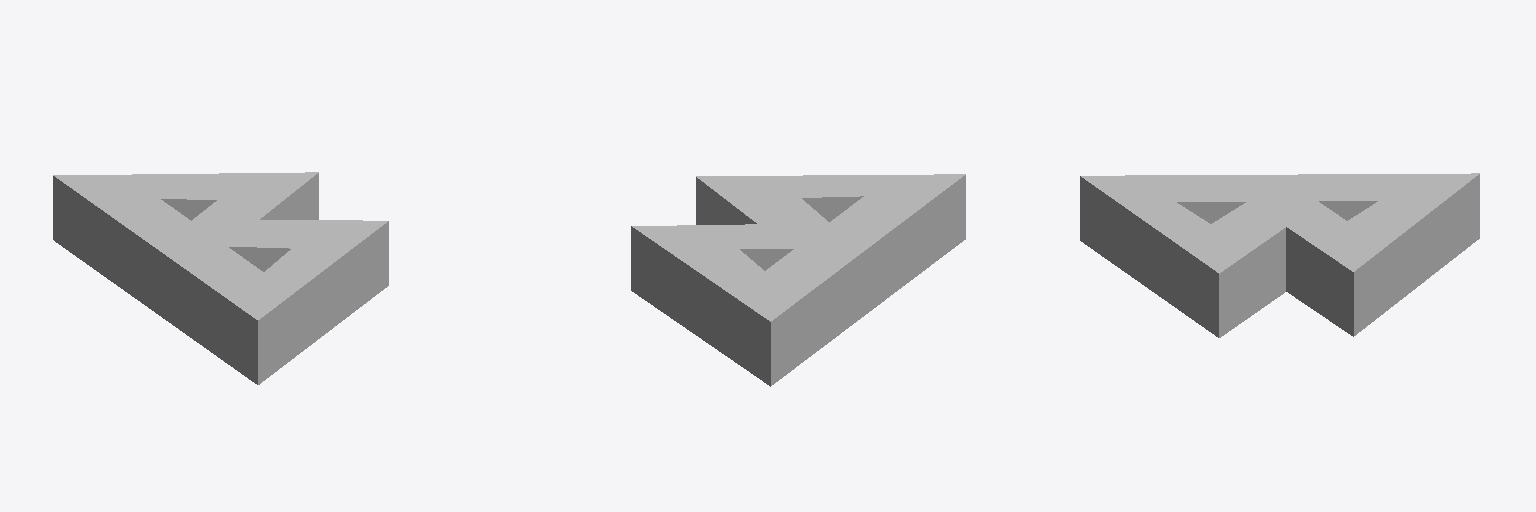
The model's file is Berkana.obj.
The picture shows the model from 3 angles: view 1: azimuth 30°, elevation 25°; view 2: azimuth 150°, elevation 25°; view 3: azimuth 270°, elevation 25°; orthographic projection.
Visible parts, largest first — view 1: Berkana; view 2: Berkana; view 3: Berkana.
Boxes of the visible parts, x1=… form: Berkana: x1=53, y1=172, x2=388, y2=384; Berkana: x1=631, y1=174, x2=965, y2=386; Berkana: x1=1080, y1=173, x2=1479, y2=337.
Size of the model in its own units: 0.3414 by 0.1028 by 0.5759.